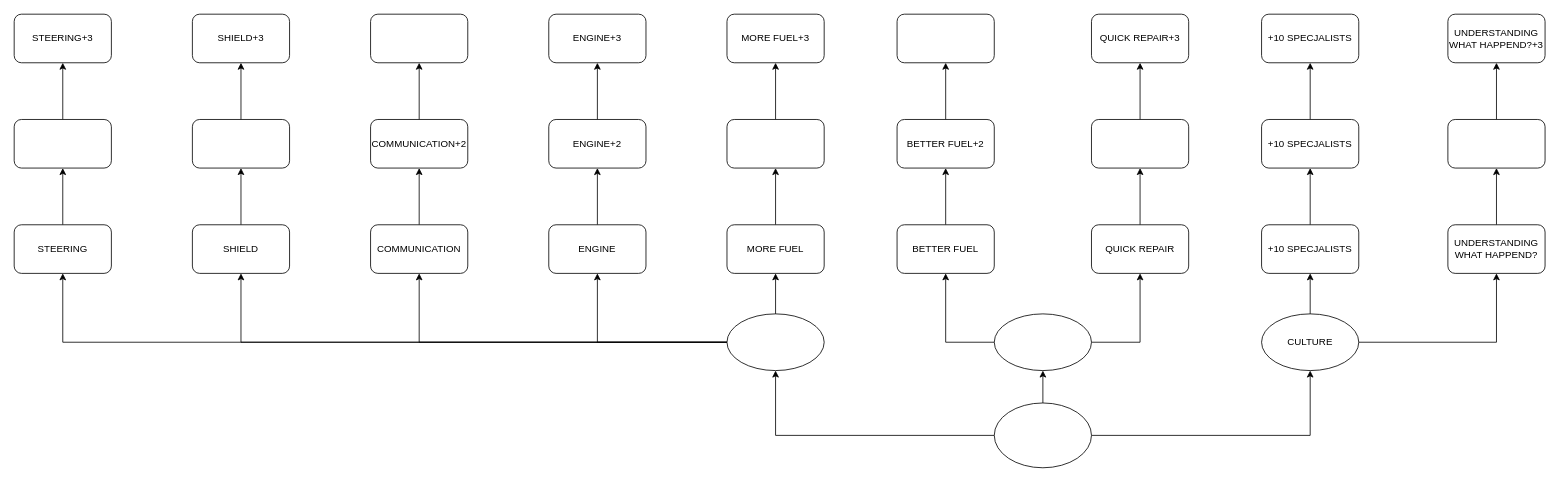
This 1559x482 diagram has some shape labels left out. The shapes that lost their labels are listed below. From the top down, each one's box as (x1, y1, x2, y2) in pixels, then its label:
(370, 13, 468, 63): COMMUNICATION+3
(896, 13, 994, 63): BETTER FUEL+3
(13, 119, 111, 168): STEERING+2
(192, 119, 290, 168): SHIELD+2
(726, 119, 824, 168): MORE FUEL+2
(1091, 119, 1189, 168): QUICK REPAIR+2
(1447, 119, 1545, 168): UNDERSTANDING WHAT HAPPEND?+2
(726, 313, 824, 371): TECHNOLOGY
(993, 313, 1091, 371): KNOWLEDGE
(993, 402, 1091, 468): START
